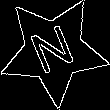N_SE: (26, 20, 81, 82)
